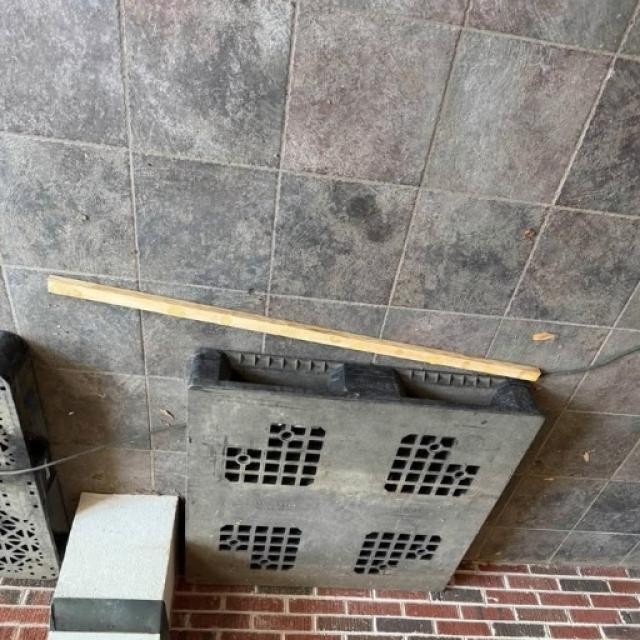non-igps: (165, 341, 552, 599), (0, 320, 76, 594)
